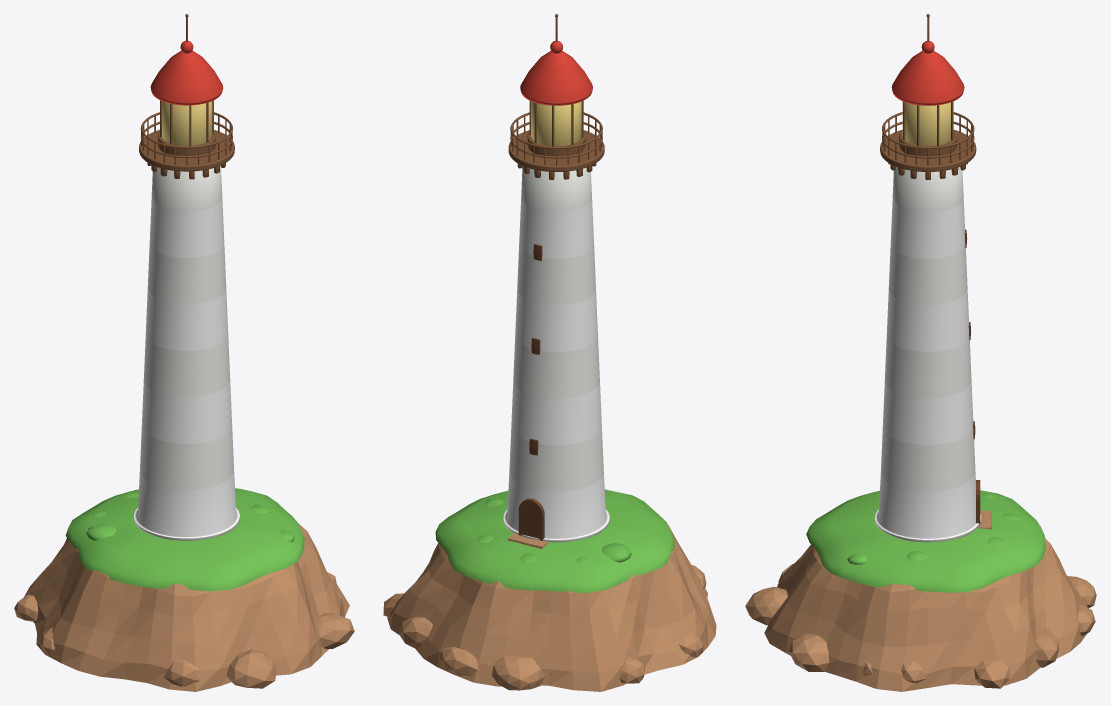
The model's file is SharkBaitLighthouse.obj.
3 views of the same model, side by side, from view 1: azimuth 30°, elevation 25°; view 2: azimuth 150°, elevation 25°; view 3: azimuth 270°, elevation 25° (orthographic).
Visible parts, largest first — view 1: Rock, Stripes, Tower, Grass, Rail, Roof, Lantern; view 2: Rock, Stripes, Tower, Grass, Rail, Roof, Lantern, Door; view 3: Rock, Stripes, Tower, Grass, Rail, Roof, Lantern.
Part boxes in pixels (left/top/right/bottom): Rock: left=14, top=499, right=354, bottom=691; Stripes: left=134, top=198, right=239, bottom=538; Tower: left=134, top=165, right=239, bottom=540; Grass: left=65, top=488, right=304, bottom=591; Rail: left=139, top=14, right=234, bottom=179; Roof: left=150, top=40, right=223, bottom=105; Lantern: left=162, top=101, right=212, bottom=145; Rock: left=383, top=525, right=716, bottom=691; Stripes: left=503, top=197, right=609, bottom=539; Tower: left=503, top=166, right=609, bottom=542; Grass: left=435, top=489, right=674, bottom=592; Rail: left=508, top=14, right=604, bottom=179; Roof: left=520, top=41, right=592, bottom=105; Lantern: left=531, top=101, right=581, bottom=146; Door: left=518, top=244, right=544, bottom=540; Rock: left=745, top=510, right=1096, bottom=691; Stripes: left=875, top=198, right=981, bottom=539; Tower: left=875, top=167, right=981, bottom=542; Grass: left=806, top=490, right=1045, bottom=592; Rail: left=880, top=14, right=976, bottom=179; Roof: left=891, top=41, right=964, bottom=105; Lantern: left=902, top=101, right=953, bottom=146.
Size of the model in its own units: 22.87 by 46 by 24.12.
